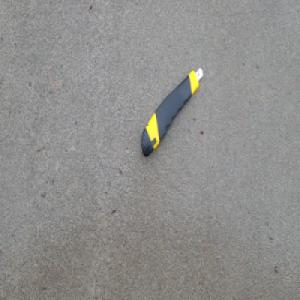Cutter: (140, 68, 203, 161)
